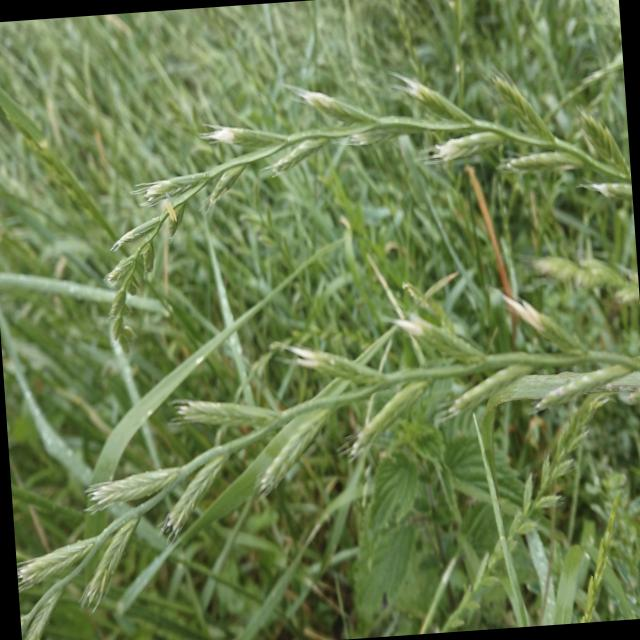Lolium: (4, 315, 640, 640), (93, 56, 639, 336)
